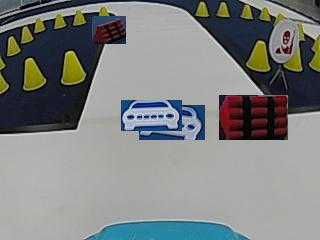evil: (268, 21, 298, 63)
